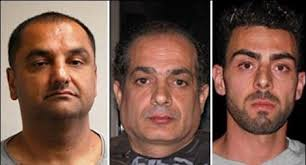middle_eastern_male: (115, 30, 212, 152), (13, 17, 104, 125), (228, 14, 304, 136)
